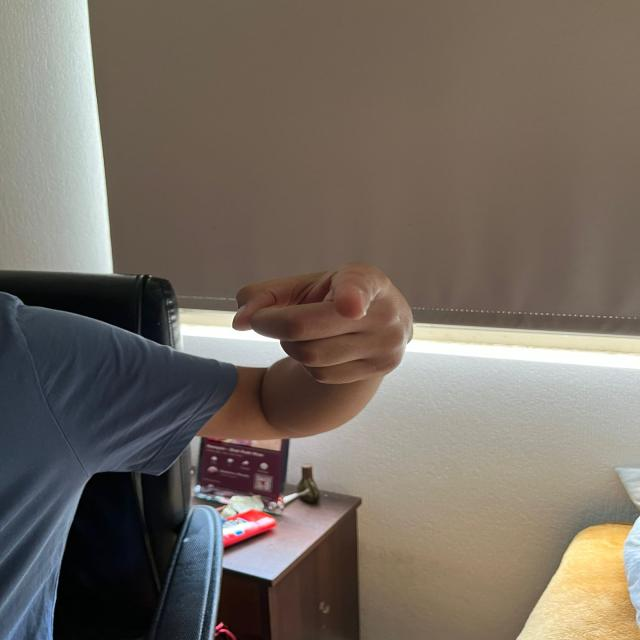X: (229, 258, 420, 390)
